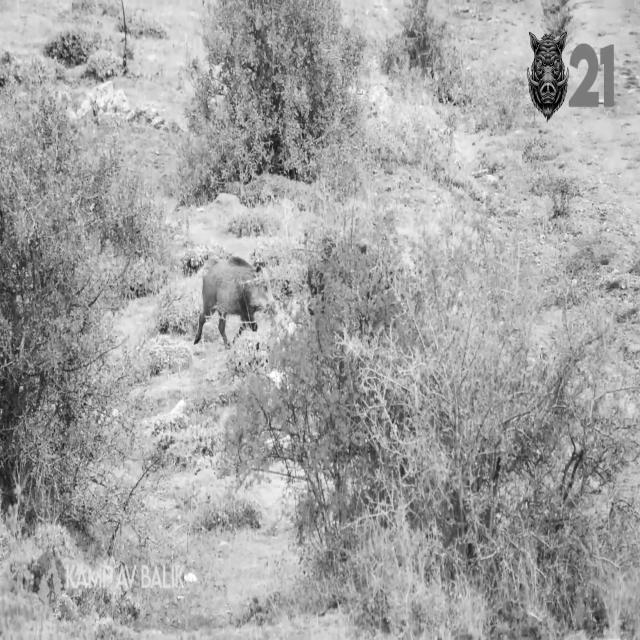boar: (194, 256, 275, 345)
